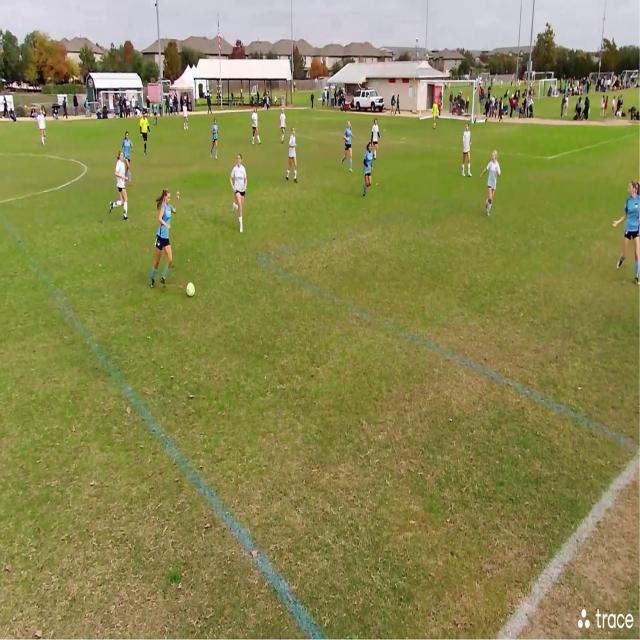ball: (185, 278, 198, 301)
team1: (152, 190, 178, 292), (616, 179, 640, 281), (342, 119, 356, 170), (364, 145, 376, 197), (124, 134, 134, 184), (210, 118, 220, 161), (152, 100, 158, 126)
team2: (232, 154, 250, 232), (112, 153, 132, 222), (484, 153, 500, 221), (288, 128, 301, 185), (463, 124, 475, 179), (38, 108, 48, 148), (371, 119, 381, 159), (250, 106, 259, 146), (278, 108, 286, 144), (182, 101, 190, 131)
